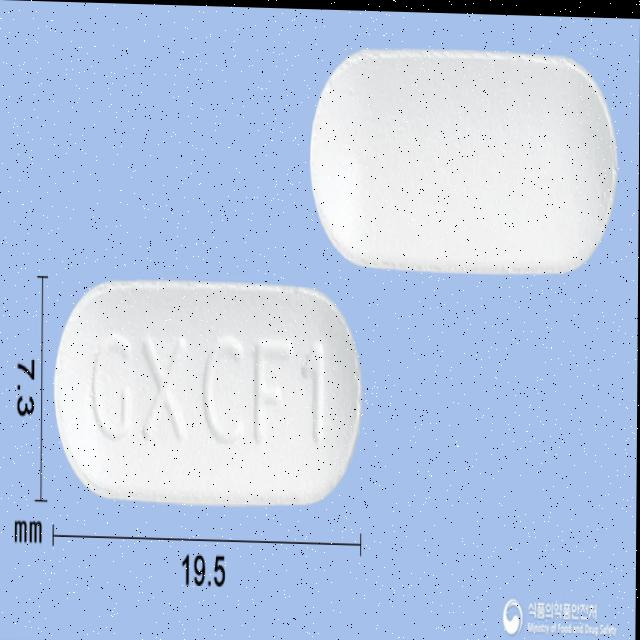Clarione -500mg: (53, 275, 364, 510), (310, 42, 619, 273)
